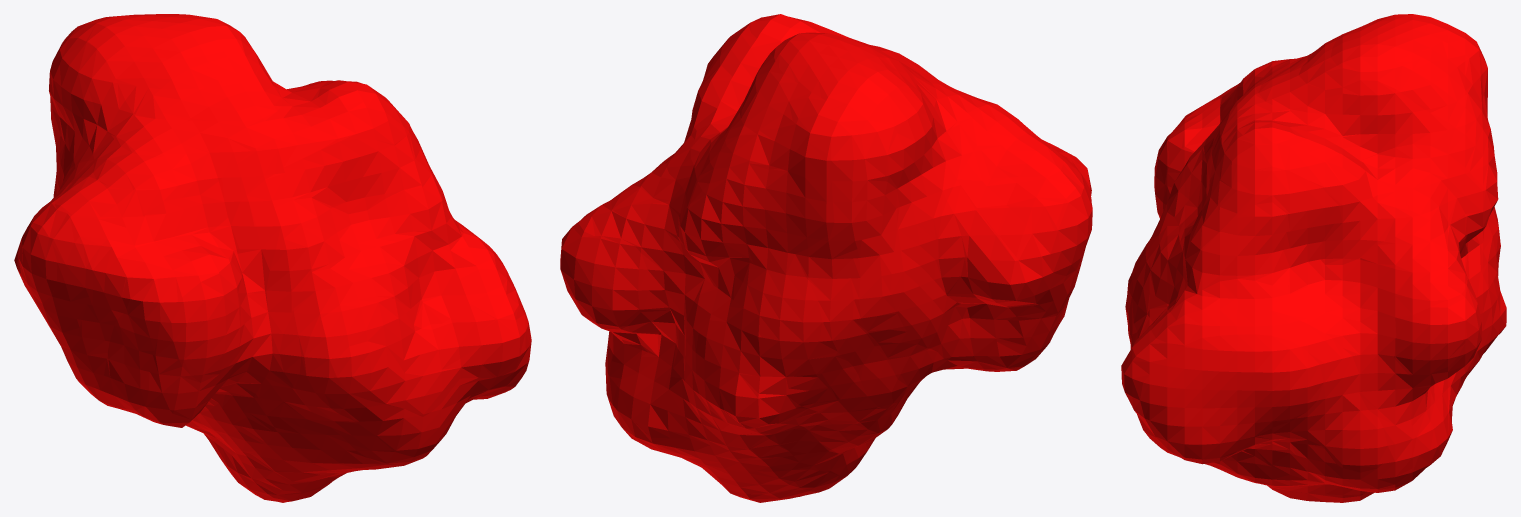
The model's file is gpmA_coarse.dae.
The picture shows the model from 3 angles, left to right: view 1: azimuth 30°, elevation 25°; view 2: azimuth 150°, elevation 25°; view 3: azimuth 270°, elevation 25°; orthographic projection. The views are drawn at different scales.
Visible parts, largest first — view 1: gpmA; view 2: gpmA; view 3: gpmA.
Part boxes in pixels (<box>): gpmA: <box>14,14,531,502</box>; gpmA: <box>560,14,1092,502</box>; gpmA: <box>1121,14,1506,502</box>.
Size of the model in its own units: 53.39 by 53.91 by 43.72.
